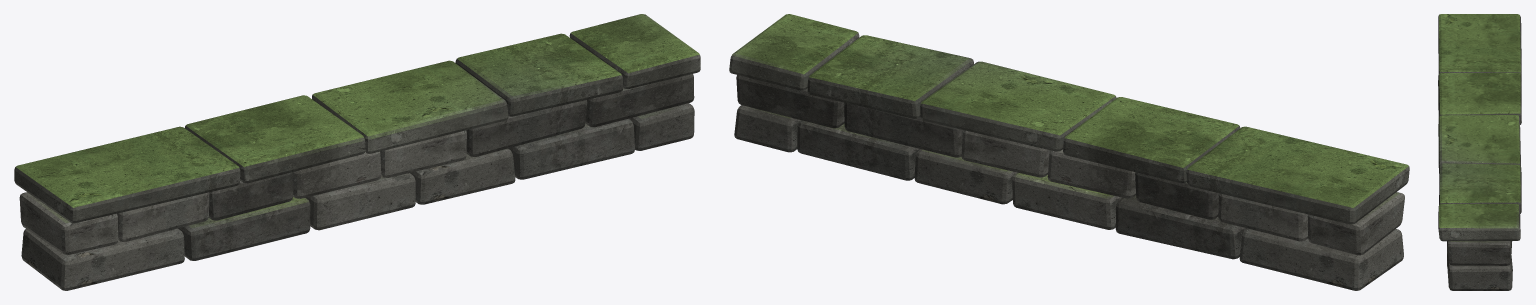
File: ER_Muret_Banc_4m.gltf
The picture shows the model from 3 angles, left to right: view 1: azimuth 30°, elevation 25°; view 2: azimuth 150°, elevation 25°; view 3: azimuth 270°, elevation 25°; orthographic projection. The views are drawn at different scales.
Parts seen in each view (by area): view 1: ER_Muret_Banc_4m_PM.001, ER_Muret_Banc_4m_P.001; view 2: ER_Muret_Banc_4m_PM.001, ER_Muret_Banc_4m_P.001; view 3: ER_Muret_Banc_4m_PM.001, ER_Muret_Banc_4m_P.001.
Boxes of the visible parts, x1,y1,x2,y2 form: ER_Muret_Banc_4m_PM.001: (14, 14, 700, 223); ER_Muret_Banc_4m_P.001: (19, 74, 694, 290); ER_Muret_Banc_4m_PM.001: (729, 14, 1409, 224); ER_Muret_Banc_4m_P.001: (734, 75, 1404, 290); ER_Muret_Banc_4m_PM.001: (1438, 14, 1521, 241); ER_Muret_Banc_4m_P.001: (1447, 241, 1512, 290).
Bounding box in the file's own units: 4 × 0.5636 × 0.6546.
Materials: 2 (2 with a texture image).
